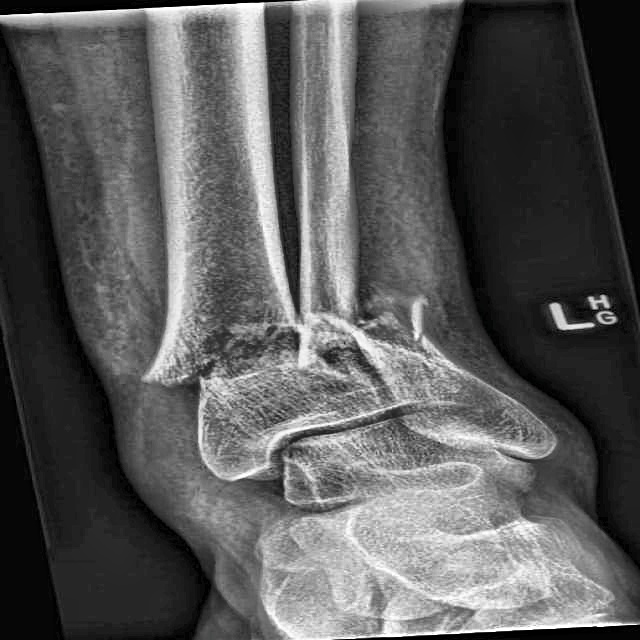Comminuted: (138, 305, 316, 400), (287, 286, 440, 362)
